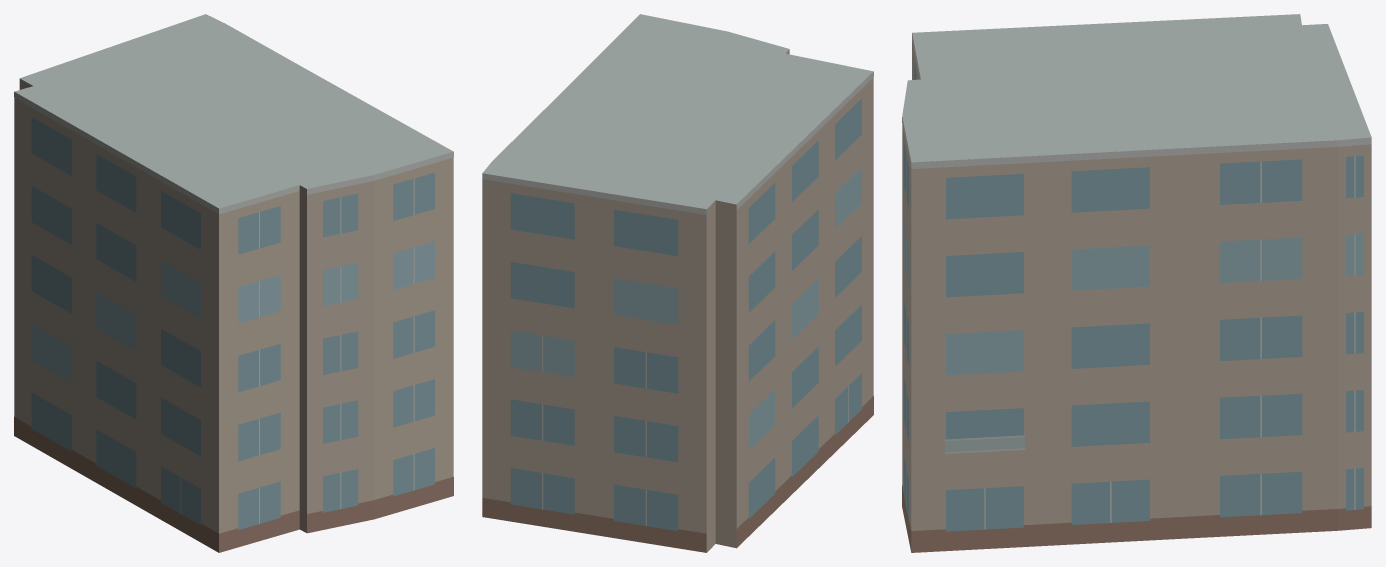
Rendered from survey-upis-32749205.glb.
3 views of the same model, side by side, from view 1: azimuth 30°, elevation 25°; view 2: azimuth 150°, elevation 25°; view 3: azimuth 270°, elevation 25° (orthographic). The views are drawn at different scales.
Visible parts, largest first — view 1: survey-upis-32749205.tmp; view 2: survey-upis-32749205.tmp; view 3: survey-upis-32749205.tmp.
Part boxes in pixels (x1,y1,x2,y2): survey-upis-32749205.tmp: [14, 14, 453, 552]; survey-upis-32749205.tmp: [482, 14, 873, 552]; survey-upis-32749205.tmp: [902, 14, 1371, 552].
Size of the model in its own units: 11.67 by 14.3 by 15.6.
